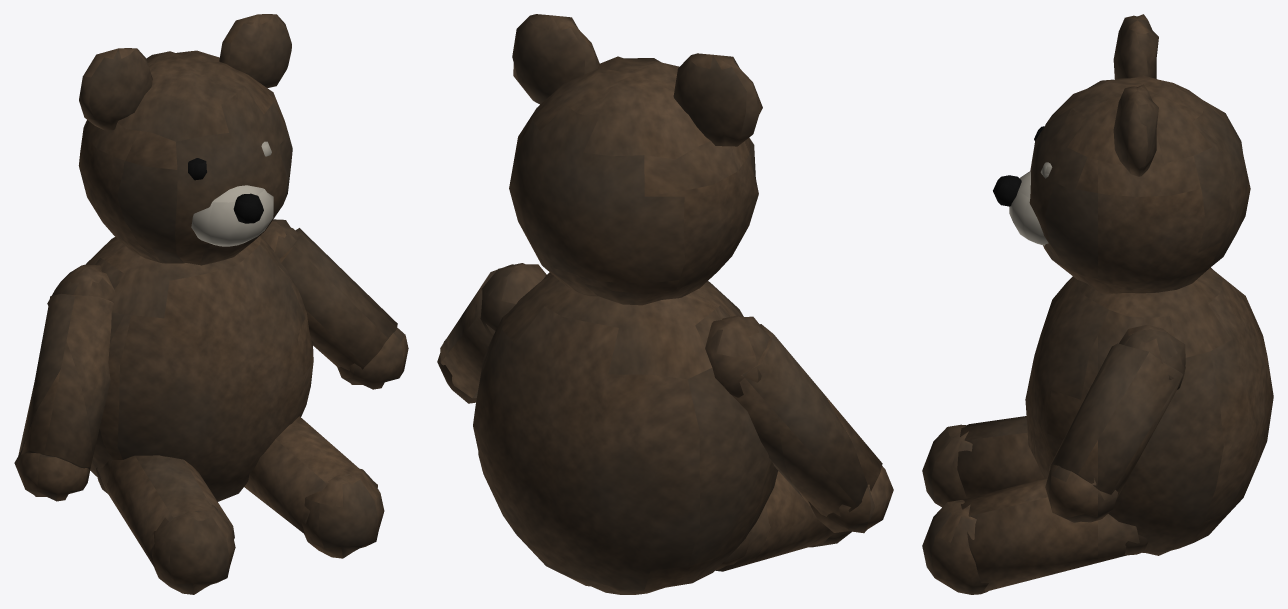
File: T01_teddy_bear_v1.glb
The picture shows the model from 3 angles, left to right: view 1: azimuth 30°, elevation 25°; view 2: azimuth 150°, elevation 25°; view 3: azimuth 270°, elevation 25°; orthographic projection. The views are drawn at different scales.
Visible parts, largest first — view 1: T01_teddy_bear_v1; view 2: T01_teddy_bear_v1; view 3: T01_teddy_bear_v1.
Part boxes in pixels (x1,y1,x2,y2): T01_teddy_bear_v1: [14, 14, 408, 594]; T01_teddy_bear_v1: [437, 14, 893, 594]; T01_teddy_bear_v1: [922, 14, 1273, 594].
Size of the model in its own units: 0.4195 by 0.5 by 0.3222.
Materials: 3 (3 with a texture image).
